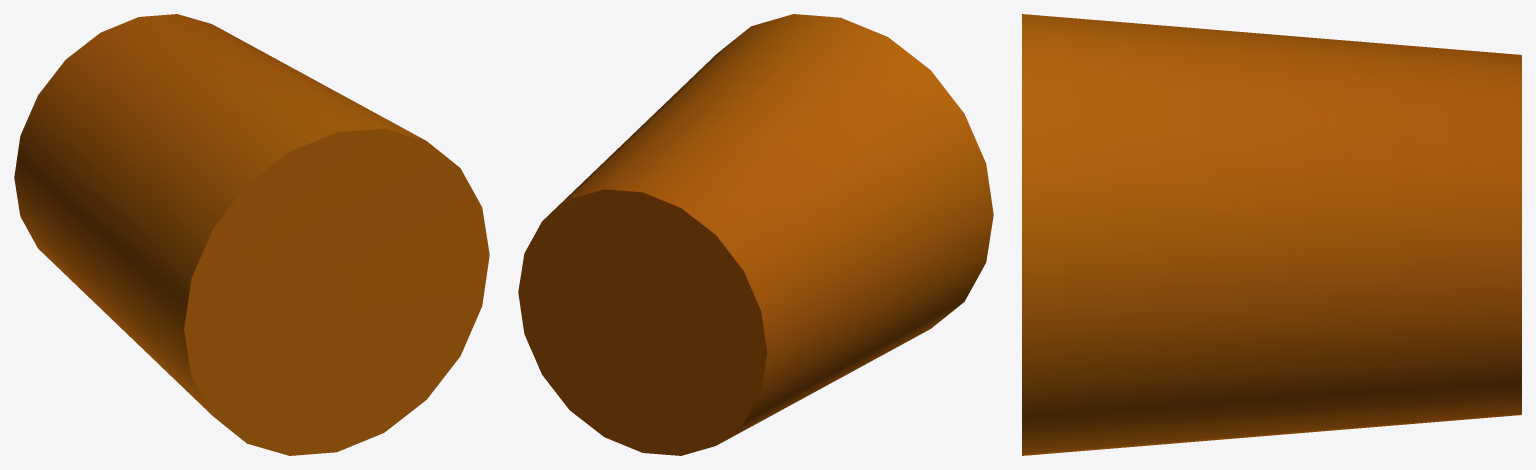
Rendered from carrot1_slices_4.fbx.
3 views of the same model, side by side, from view 1: azimuth 30°, elevation 25°; view 2: azimuth 150°, elevation 25°; view 3: azimuth 270°, elevation 25° (orthographic). The views are drawn at different scales.
Visible parts, largest first — view 1: carrot1_slices.004; view 2: carrot1_slices.004; view 3: carrot1_slices.004.
Boxes of the visible parts, x1=… form: carrot1_slices.004: x1=14, y1=14, x2=489, y2=455; carrot1_slices.004: x1=518, y1=14, x2=993, y2=455; carrot1_slices.004: x1=1022, y1=14, x2=1521, y2=455.
Size of the model in its own units: 70.67 by 70.67 by 79.33.
